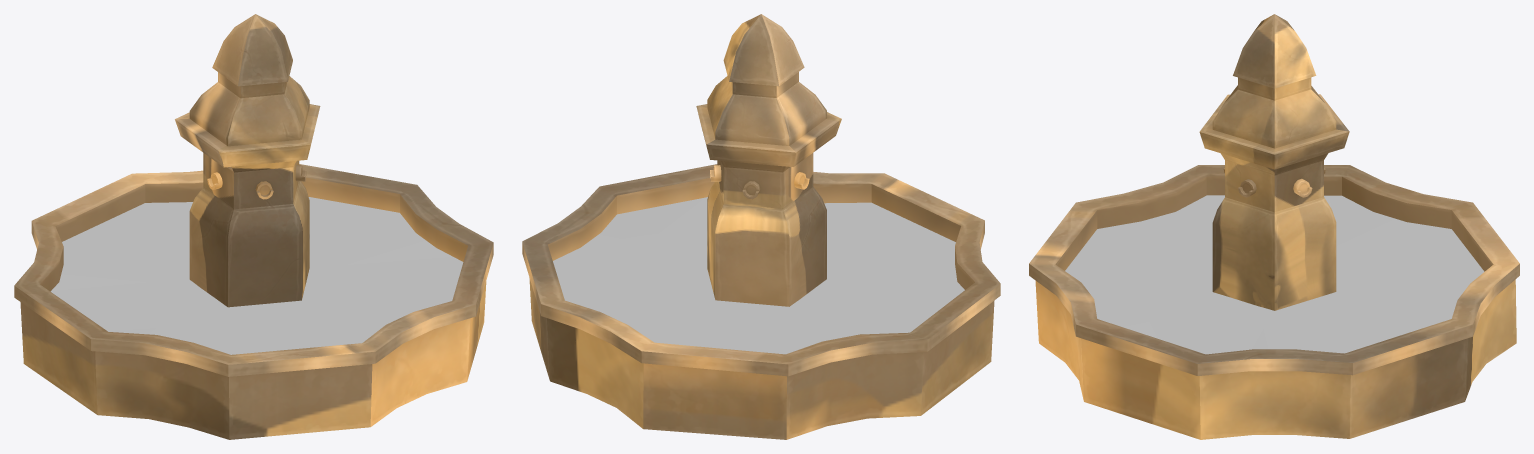
Rendered from SM_Stylized_Fountain.fbx.
3 views of the same model, side by side, from view 1: azimuth 30°, elevation 25°; view 2: azimuth 150°, elevation 25°; view 3: azimuth 270°, elevation 25° (orthographic).
Parts seen in each view (by area): view 1: SM_Stylized_Fountain_LOD0; view 2: SM_Stylized_Fountain_LOD0; view 3: SM_Stylized_Fountain_LOD0.
Boxes of the visible parts, left/top/right/bottom form: SM_Stylized_Fountain_LOD0: left=14, top=14, right=493, bottom=439; SM_Stylized_Fountain_LOD0: left=522, top=14, right=1000, bottom=439; SM_Stylized_Fountain_LOD0: left=1029, top=14, right=1519, bottom=439.
Size of the model in its own units: 447 by 466 by 347.
